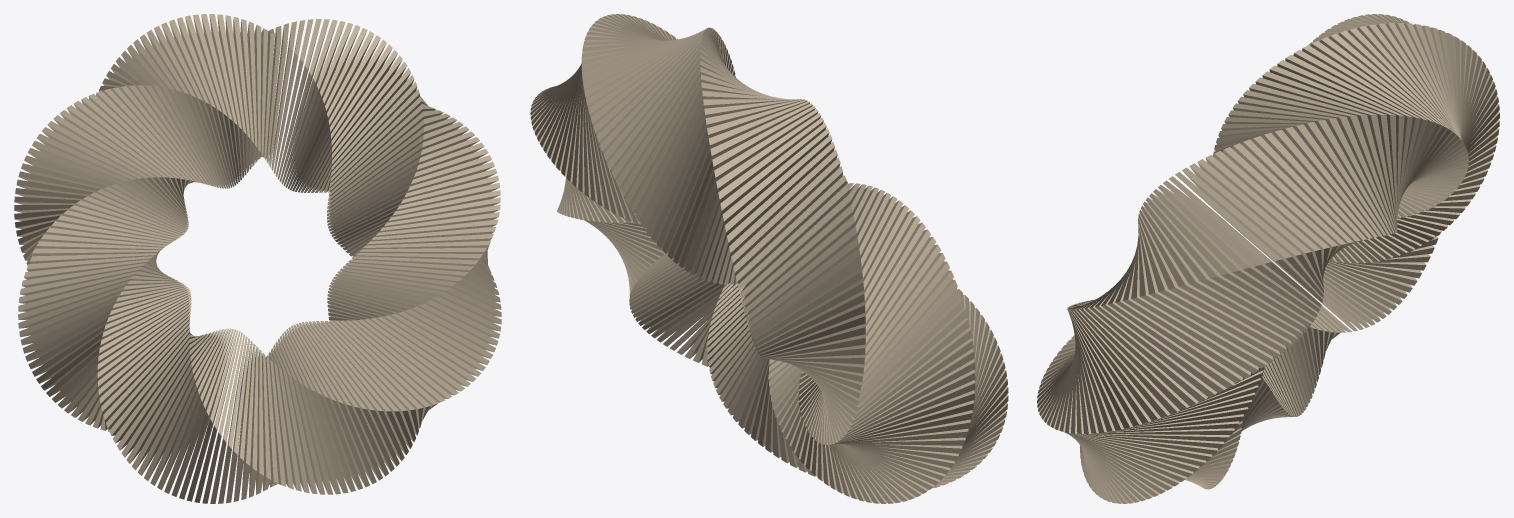
Rendered from sculpture.glb.
3 renders of one model, left to right at view 1: azimuth 30°, elevation 25°; view 2: azimuth 150°, elevation 25°; view 3: azimuth 270°, elevation 25°, orthographic. The views are drawn at different scales.
Visible parts, largest first — view 1: Cube; view 2: Cube; view 3: Cube.
Boxes of the visible parts, x1=… form: Cube: x1=14, y1=14, x2=501, y2=503; Cube: x1=530, y1=14, x2=1008, y2=503; Cube: x1=1037, y1=14, x2=1499, y2=503.
Size of the model in its own units: 5.15 by 4.98 by 4.33.
